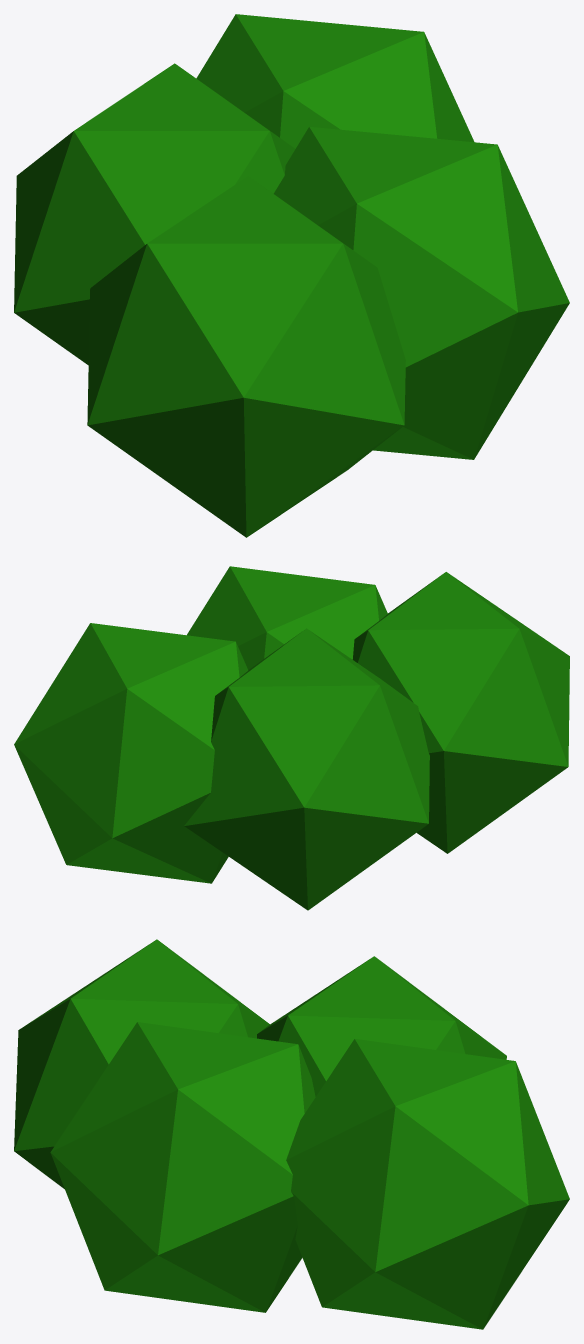
The model's file is Plant.fbx.
The picture shows the model from 3 angles, top to bottom: view 1: azimuth 30°, elevation 25°; view 2: azimuth 150°, elevation 25°; view 3: azimuth 270°, elevation 25°; orthographic projection. The views are drawn at different scales.
Parts seen in each view (by area): view 1: Plant; view 2: Plant; view 3: Plant.
Part boxes in pixels (<box>): Plant: <box>14,14,569,537</box>; Plant: <box>14,566,569,910</box>; Plant: <box>14,939,569,1329</box>.
Size of the model in its own units: 194 by 96.21 by 203.
